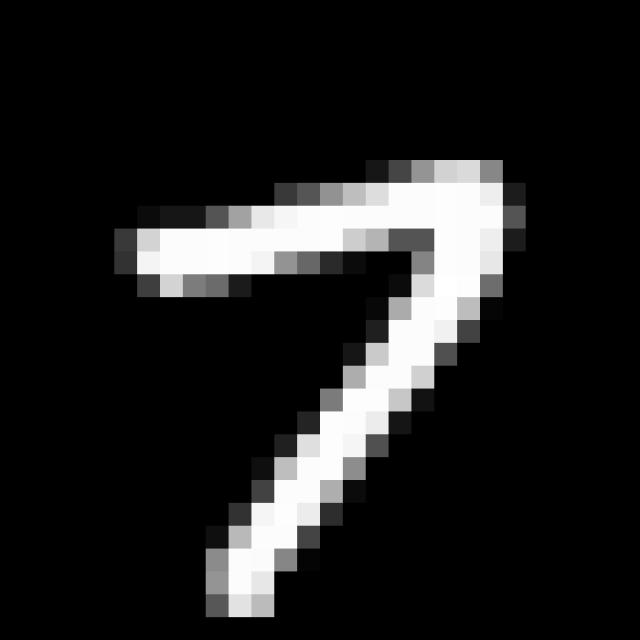seven -7-: (130, 158, 520, 627)
